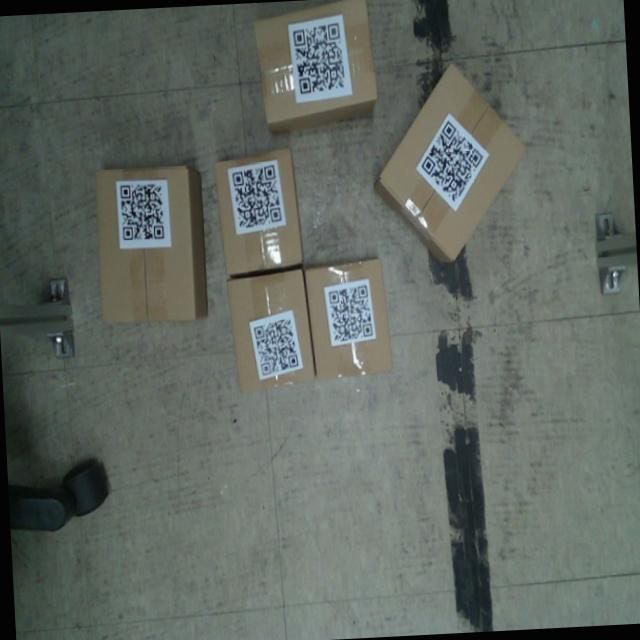box: (365, 57, 534, 271), (89, 164, 210, 328), (251, 0, 378, 136), (214, 147, 304, 277), (308, 255, 393, 383), (230, 270, 314, 390)
